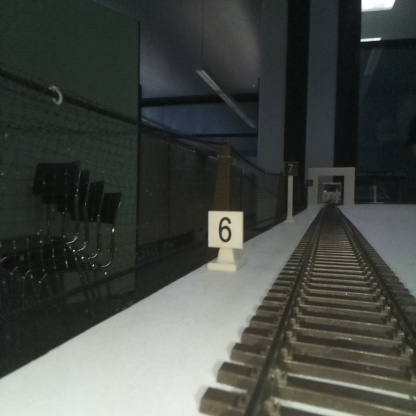black-info-7: (285, 162, 297, 222)
white-stop-6: (208, 211, 243, 267)
